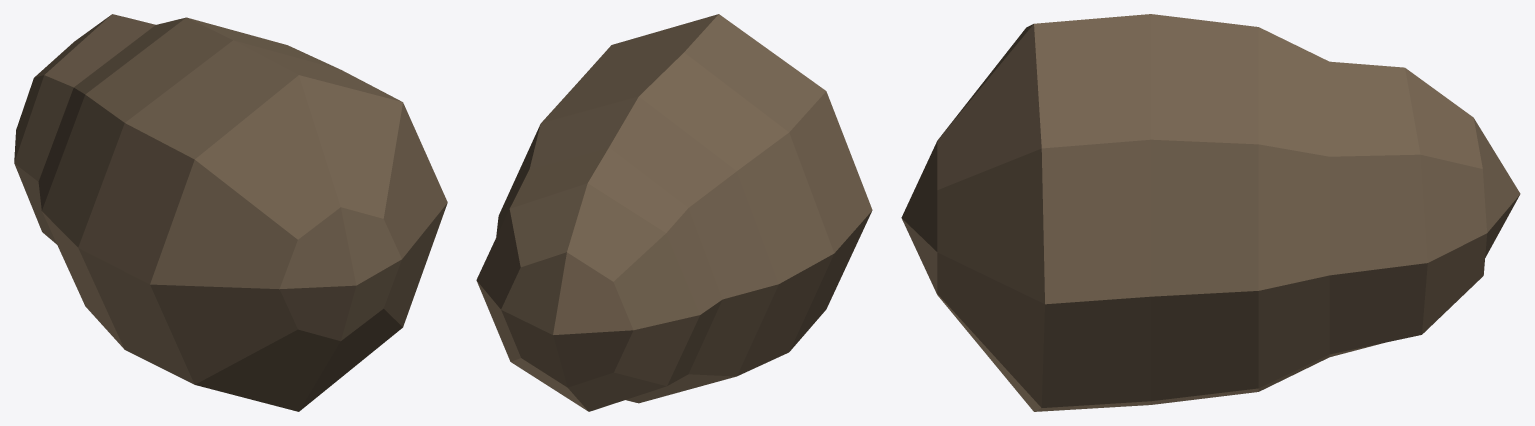
Rendered from Potato.fbx.
The picture shows the model from 3 angles, left to right: view 1: azimuth 30°, elevation 25°; view 2: azimuth 150°, elevation 25°; view 3: azimuth 270°, elevation 25°; orthographic projection. The views are drawn at different scales.
Parts seen in each view (by area): view 1: Potato; view 2: Potato; view 3: Potato.
Boxes of the visible parts, x1,y1,x2,y2 form: Potato: (14, 14, 447, 411); Potato: (476, 14, 872, 411); Potato: (901, 14, 1520, 411).
Size of the model in its own units: 11.45 by 11.47 by 16.46.
